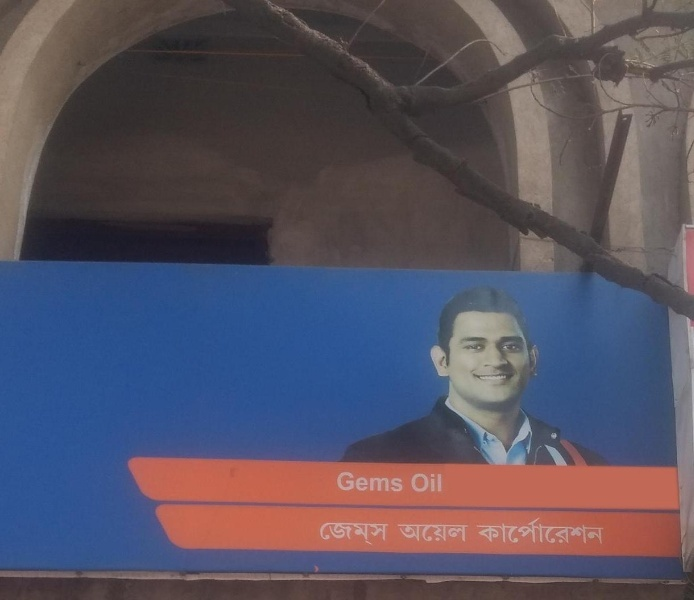text: (481, 514, 496, 552), (497, 514, 512, 552), (513, 514, 528, 552), (529, 514, 544, 552), (545, 514, 560, 552), (561, 514, 576, 552), (577, 514, 592, 552), (593, 514, 608, 552), (417, 469, 432, 496), (321, 521, 336, 546), (337, 521, 352, 546), (353, 521, 368, 546), (369, 521, 384, 546), (401, 523, 416, 546), (417, 523, 432, 546), (433, 523, 448, 546), (449, 523, 464, 546), (337, 471, 352, 493), (353, 471, 368, 493), (369, 471, 384, 493), (385, 471, 400, 493), (433, 469, 445, 496), (474, 514, 480, 552), (408, 469, 416, 496), (465, 523, 472, 546), (385, 521, 391, 546), (396, 523, 400, 546), (317, 521, 320, 546), (401, 471, 404, 493)
